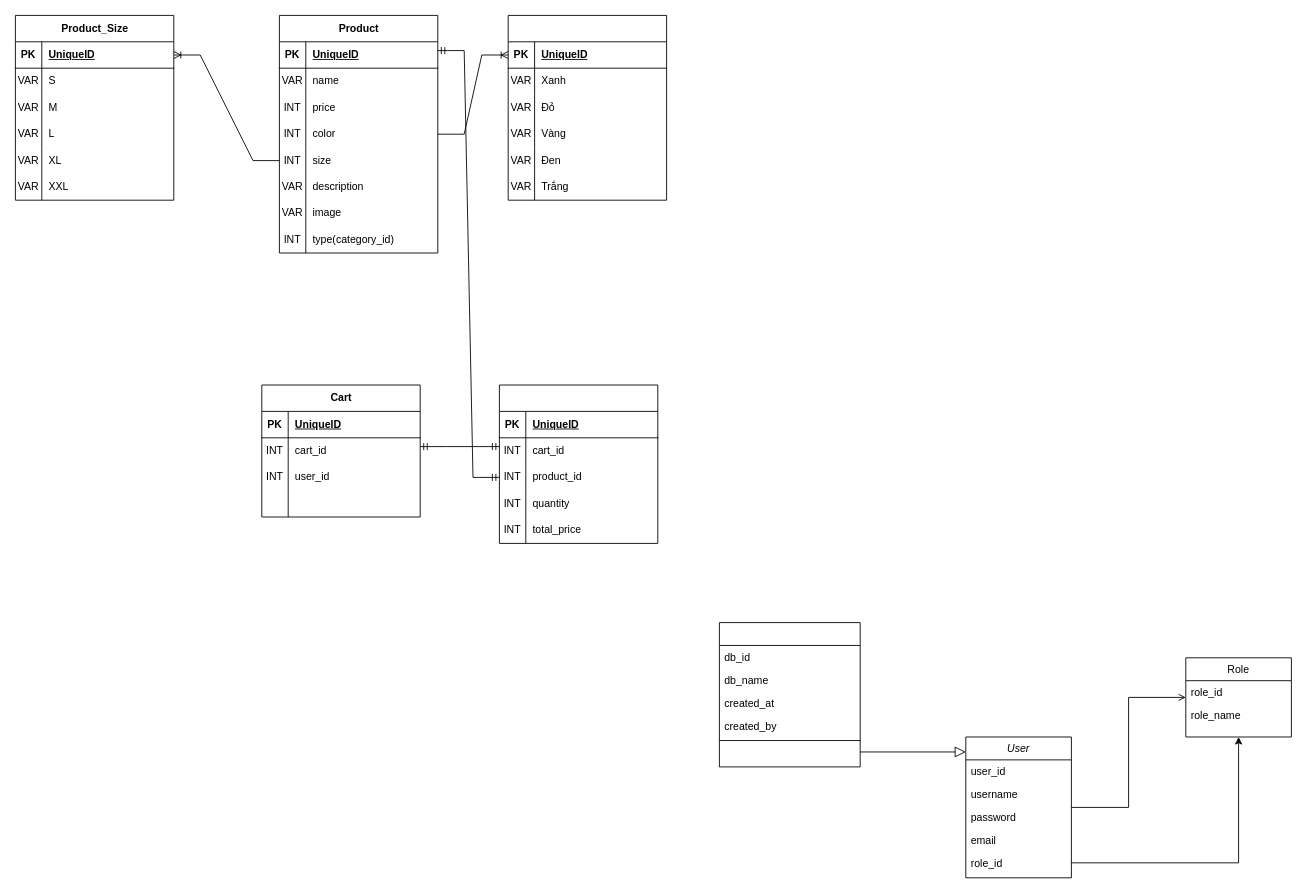
Image size: 1307x893. Some labels were removed from this diagram. The box of each missing label's shape, as (x1, y1, x2, y2) in pixels:
Cart_Item: (499, 384, 658, 543)
Database: (719, 622, 860, 767)
Product_Color: (507, 15, 667, 200)
